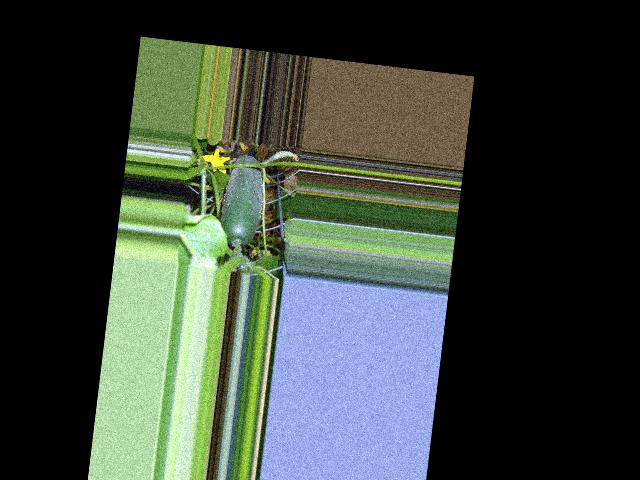cucumber: (218, 153, 268, 248)
